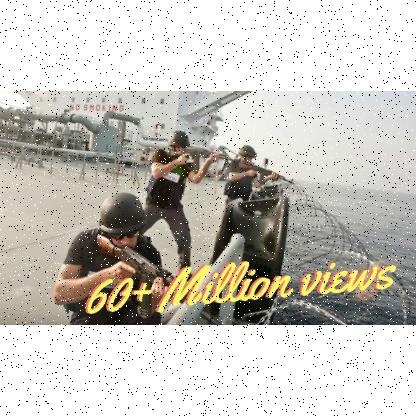gun: (97, 233, 175, 284), (236, 160, 298, 190), (166, 146, 236, 170)
